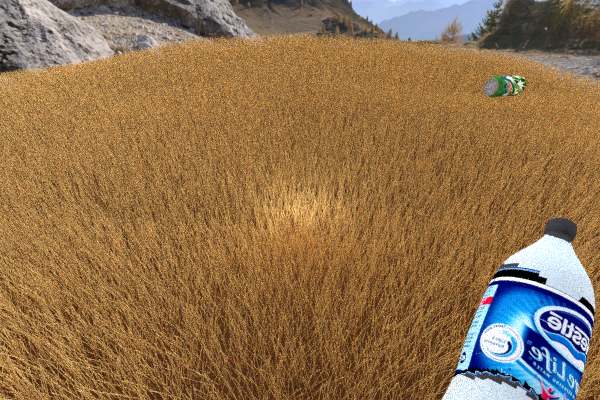Plastic Bottle: (413, 217, 594, 400), (292, 82, 326, 111), (482, 75, 525, 97)
